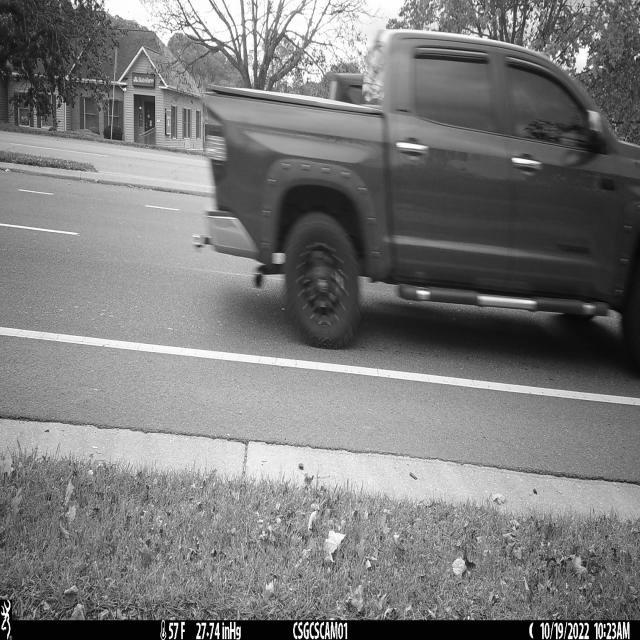Pickup: (197, 30, 640, 376)
